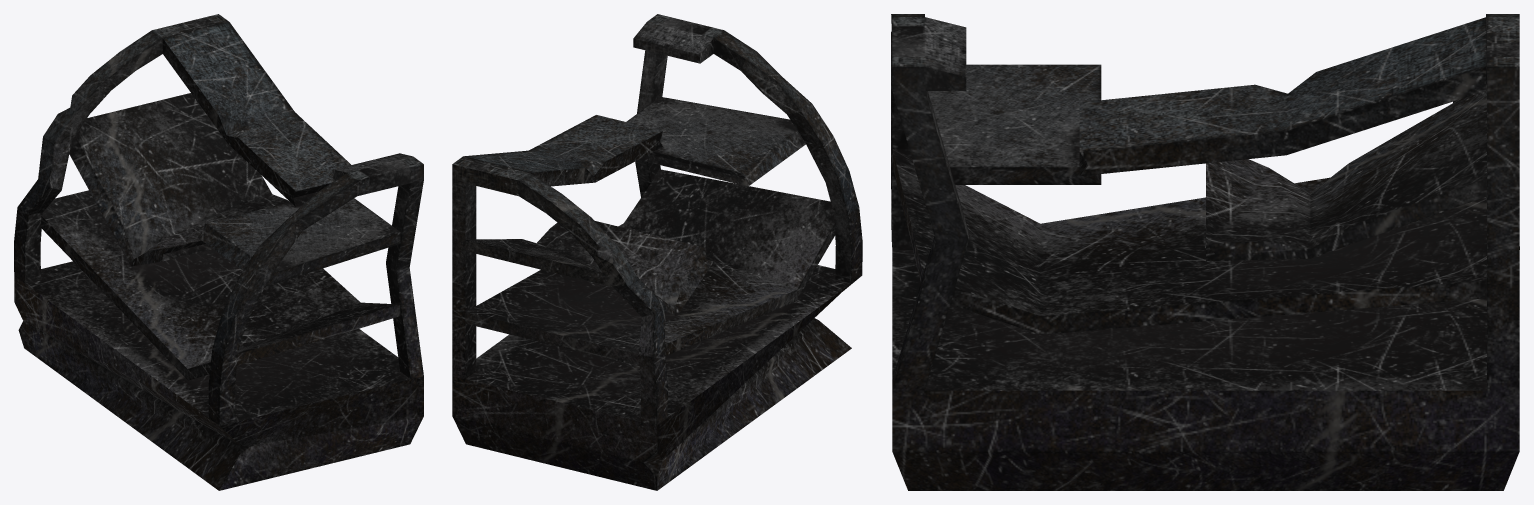
The model's file is Vitrina_de_PostresV3_Destruida.glb.
3 renders of one model, left to right at view 1: azimuth 30°, elevation 25°; view 2: azimuth 150°, elevation 25°; view 3: azimuth 270°, elevation 25°, orthographic. The views are drawn at different scales.
Visible parts, largest first — view 1: Vitrina_PostresV3_Destruida; view 2: Vitrina_PostresV3_Destruida; view 3: Vitrina_PostresV3_Destruida.
Part boxes in pixels (bbox=[...]): Vitrina_PostresV3_Destruida: bbox=[14, 14, 423, 490]; Vitrina_PostresV3_Destruida: bbox=[452, 14, 862, 490]; Vitrina_PostresV3_Destruida: bbox=[891, 14, 1519, 490].
Bounding box in the file's own units: 1.29 × 1.7 × 2.25.
Materials: 1 (1 with a texture image).
